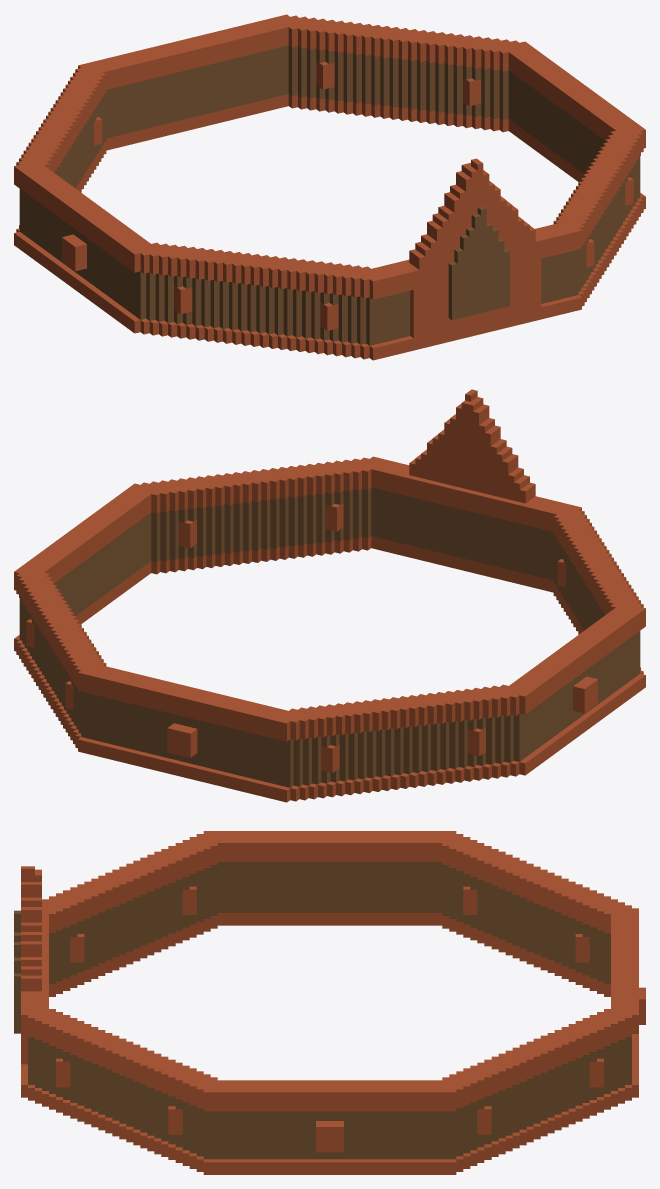
File: copper_circlet.glb
3 views of the same model, one above another, from view 1: azimuth 30°, elevation 25°; view 2: azimuth 150°, elevation 25°; view 3: azimuth 270°, elevation 25° (orthographic). The views are drawn at different scales.
Visible parts, largest first — view 1: copper_circlet:compound; view 2: copper_circlet:compound; view 3: copper_circlet:compound.
Part boxes in pixels (x1,y1,x2,y2): copper_circlet:compound: [14, 14, 645, 360]; copper_circlet:compound: [14, 389, 645, 802]; copper_circlet:compound: [14, 831, 645, 1174].
Size of the model in its own units: 0.18 by 0.056 by 0.18.
